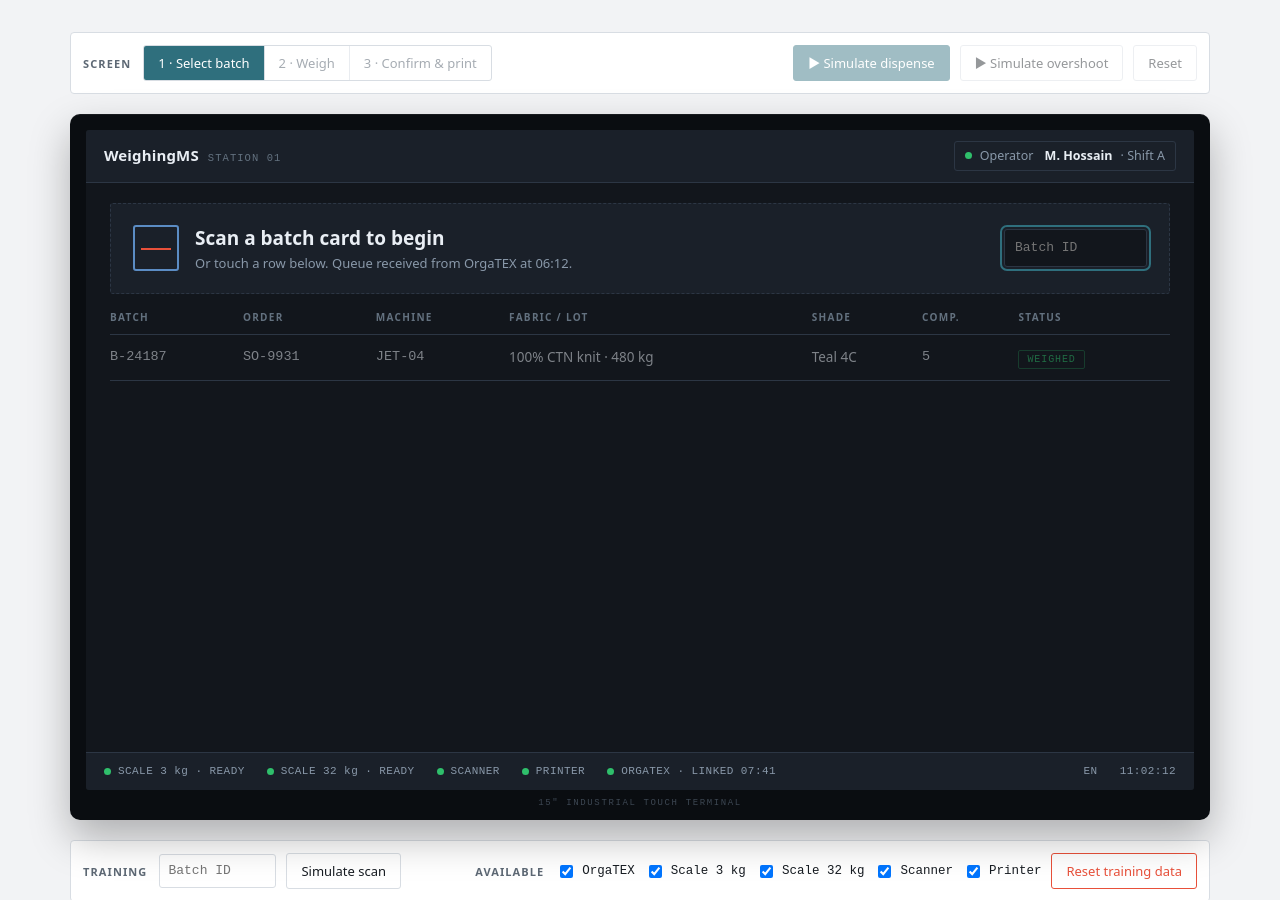
Test: App › reloads the queue and the operator after a training reset
The image size is (1280, 900).
Expected: the text "WEIGHED" is shown, [1018,350,1085,369]
Expected: the text "M. Hossain" is shown, [1045,146,1112,166]
Click the button "Reset training data": (1124, 871) [1051,853,1197,889]
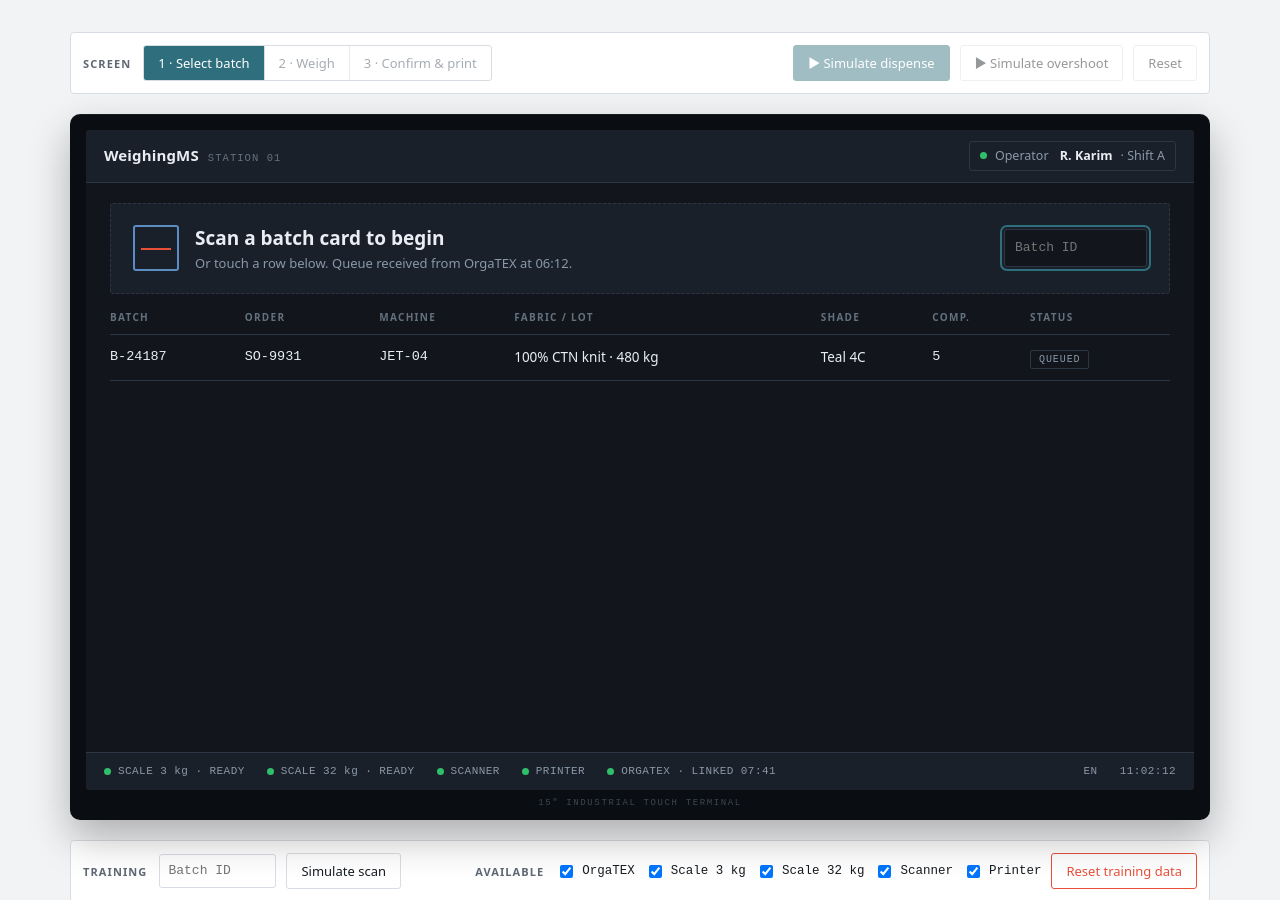
Now the text "QUEUED" is shown, box [1030,350,1090,369]
Now the text "R. Karim" is shown, box [1060,146,1112,166]
